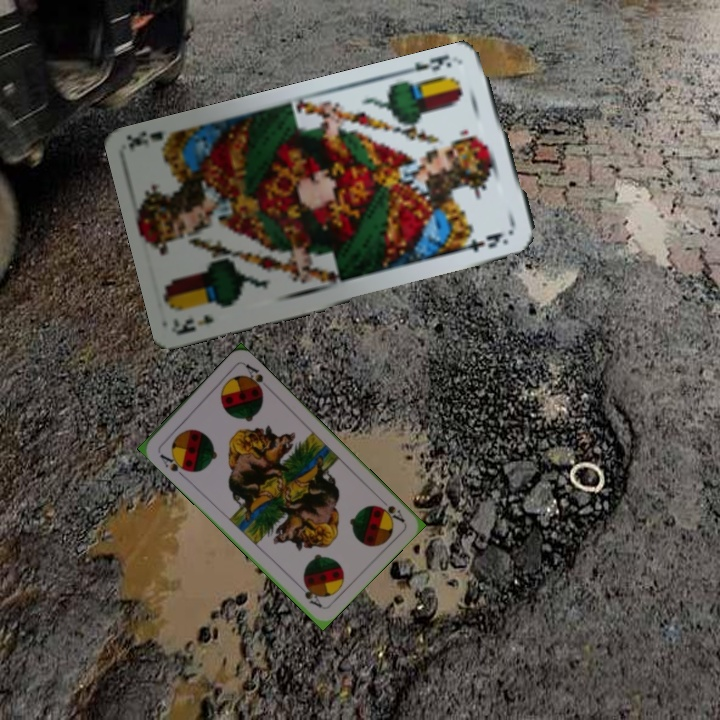EK: (410, 51, 465, 74), (176, 310, 216, 337)
SA: (155, 449, 191, 480), (373, 493, 407, 525)
